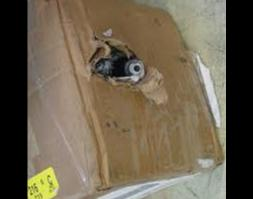damage_box: (27, 0, 222, 199)
